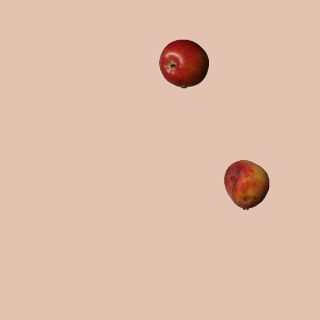Apple Braeburn: (158, 38, 208, 88)
Peach: (221, 159, 271, 209)
